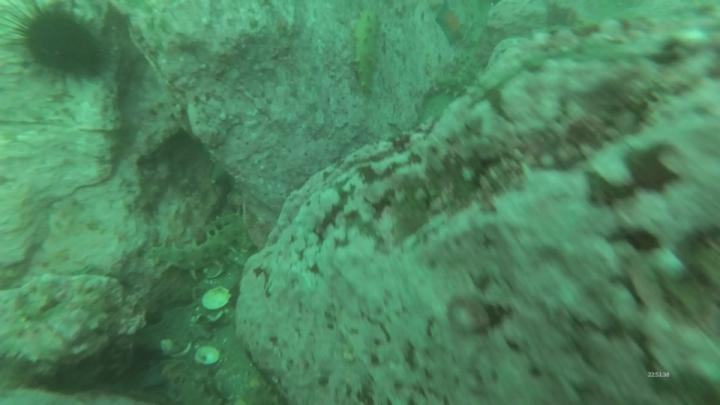echinus: (23, 22, 103, 78)
holothurian: (146, 215, 252, 273), (353, 13, 382, 88)
scallop: (203, 290, 232, 311), (197, 346, 222, 366)
starfish: (440, 9, 462, 43)
